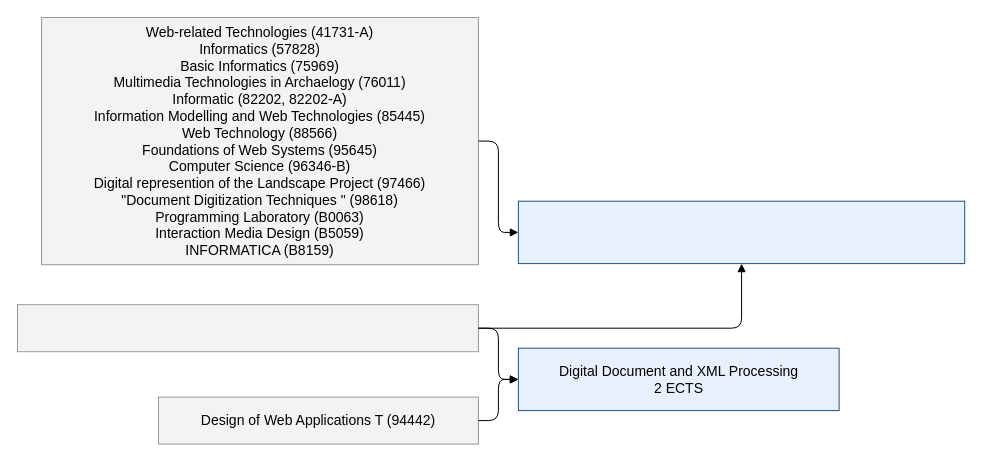
This 983x462 diagram has some shape labels left out. Here are the shapes that lost their labels. From the top down, the centre of each, then its label:
pixel 741 232: Information Representation and Document Foundations 3 ECTS
pixel 247 328: ELABORAZIONE DI TESTI E GESTIONE DOCUMENTALE (B0073)
